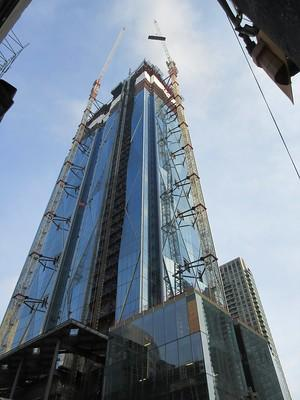building: (0, 57, 249, 397)
